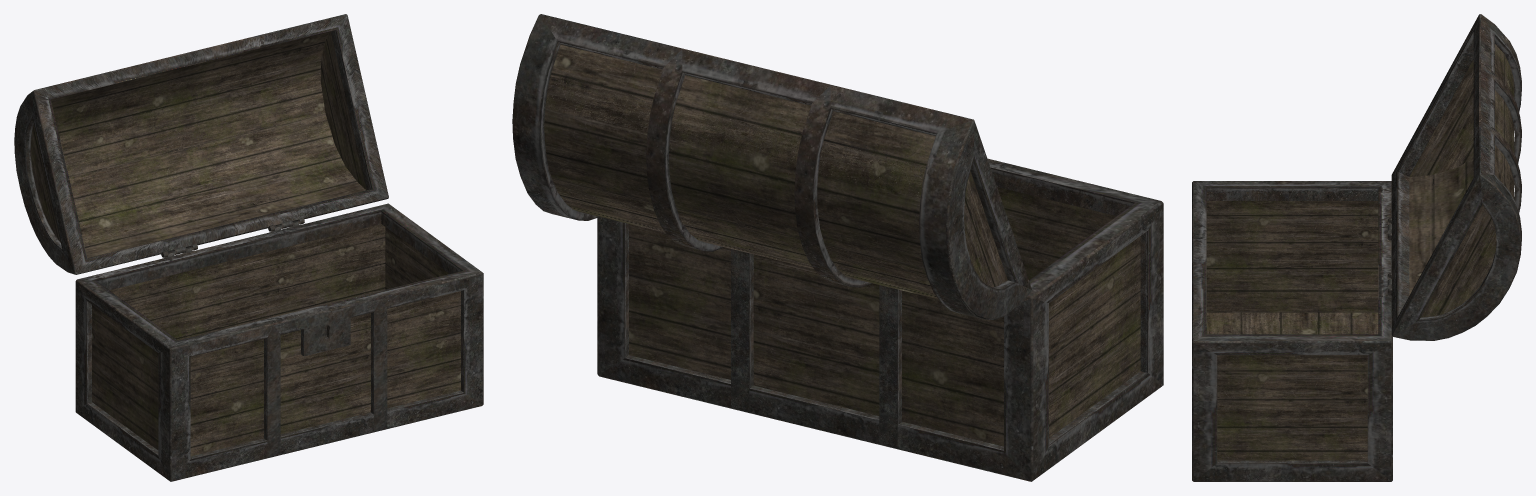
File: Chest_open.fbx
3 renders of one model, left to right at view 1: azimuth 30°, elevation 25°; view 2: azimuth 150°, elevation 25°; view 3: azimuth 270°, elevation 25°, orthographic. The views are drawn at different scales.
Visible parts, largest first — view 1: Chest_open; view 2: Chest_open; view 3: Chest_open.
Part boxes in pixels (box(x1,y1,x2,y2)): Chest_open: box(14, 14, 483, 481); Chest_open: box(512, 14, 1163, 481); Chest_open: box(1192, 14, 1521, 481).
Size of the model in its own units: 140 by 125 by 121.
